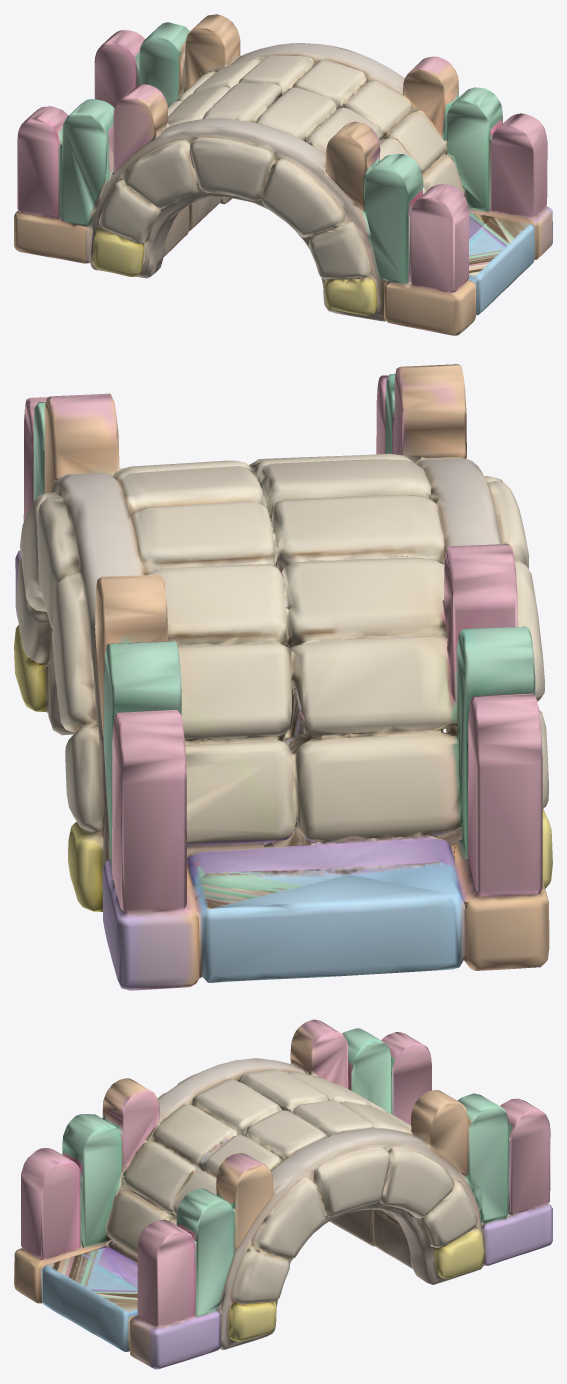
3 renders of one model, top to bottom at view 1: azimuth 30°, elevation 25°; view 2: azimuth 150°, elevation 25°; view 3: azimuth 270°, elevation 25°, orthographic. The views are drawn at different scales.
Visible parts, largest first — view 1: repaired; view 2: repaired; view 3: repaired.
Part boxes in pixels (x1,y1,x2,y2): repaired: (14,14,552,335); repaired: (14,364,552,990); repaired: (14,1019,552,1369).
Size of the model in its own units: 0.9006 by 0.3823 by 0.9995.
1 material, 1 textured.
